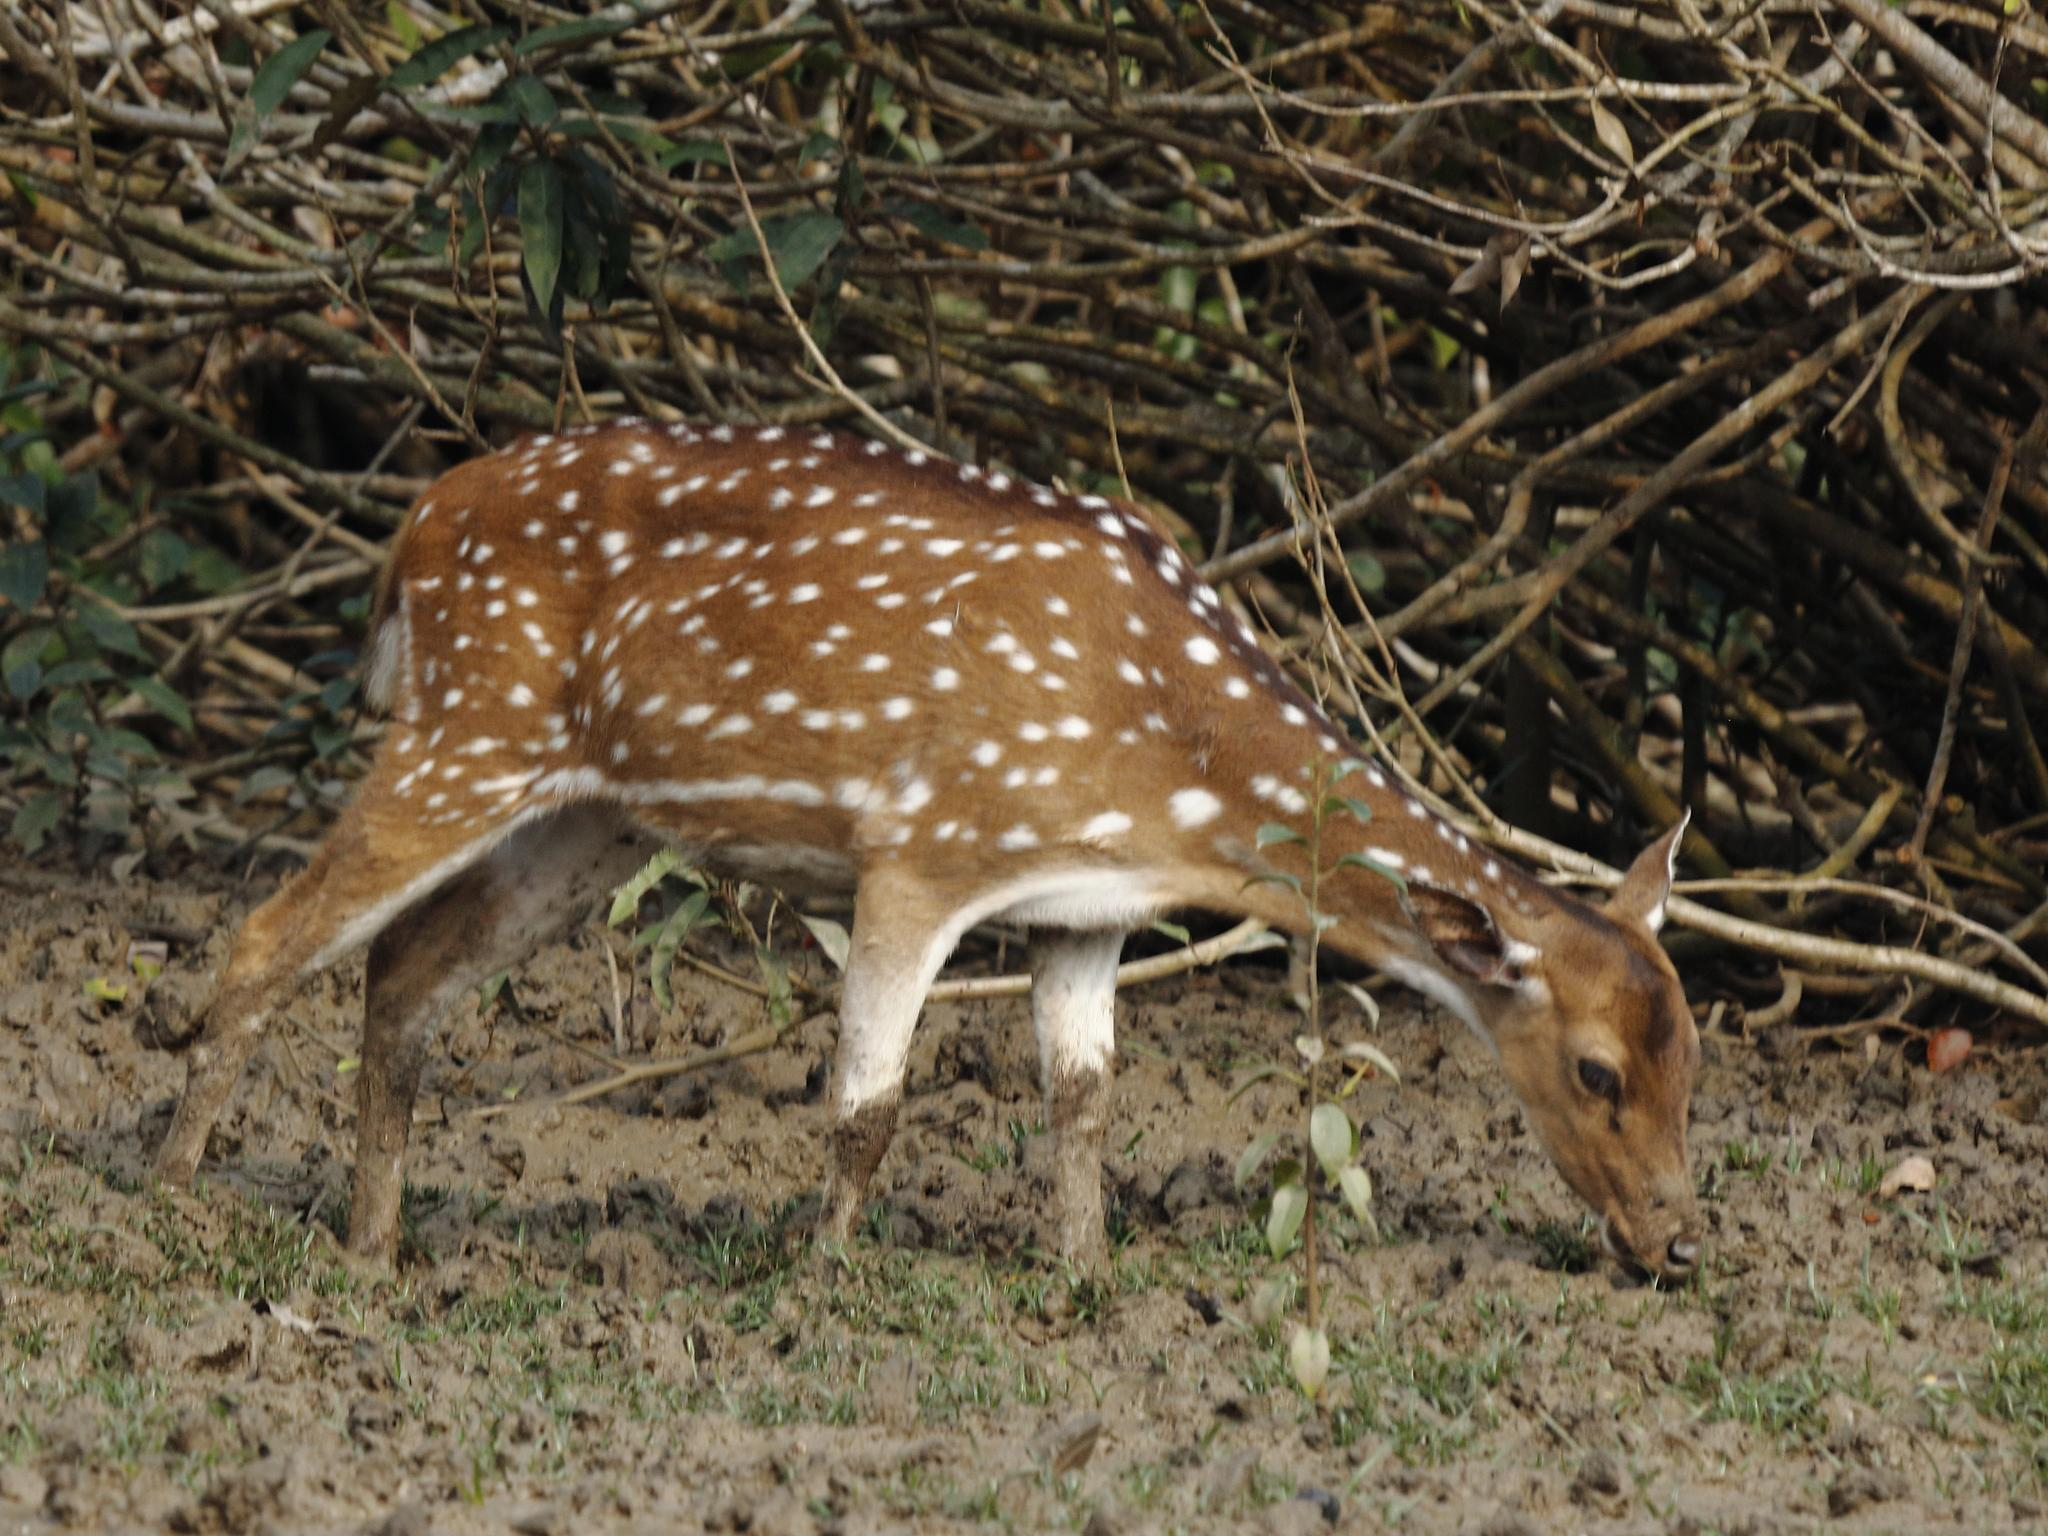Deer: (160, 421, 1693, 1267)
